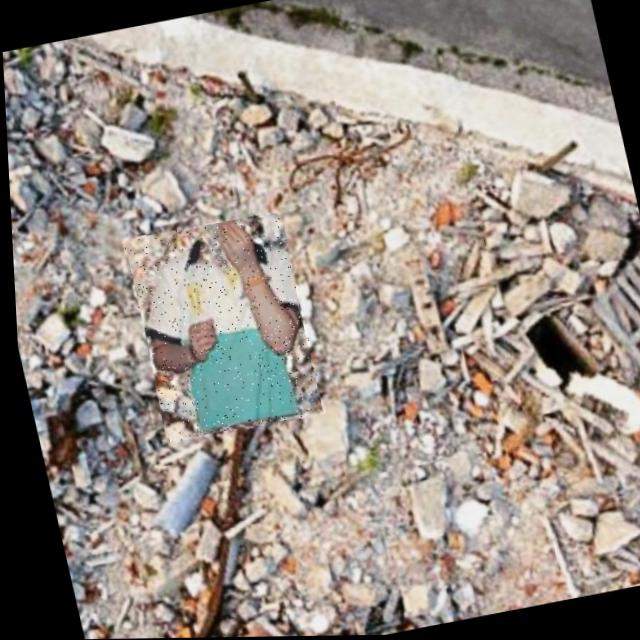Person in Rubble: (118, 210, 322, 444)
